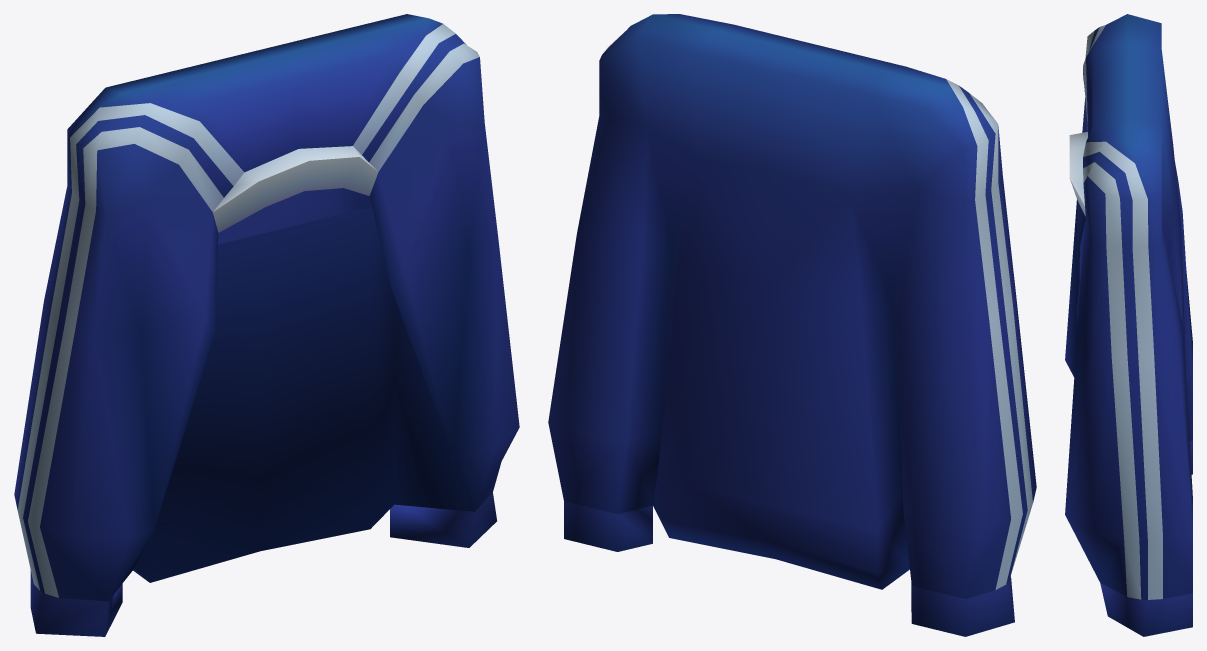
The model's file is CR_Clothes.FBX.
3 renders of one model, left to right at view 1: azimuth 30°, elevation 25°; view 2: azimuth 150°, elevation 25°; view 3: azimuth 270°, elevation 25°, orthographic. The views are drawn at different scales.
Visible parts, largest first — view 1: CR_Clothes; view 2: CR_Clothes; view 3: CR_Clothes.
Boxes of the visible parts, <box> form: CR_Clothes: <box>14,14,519,636</box>; CR_Clothes: <box>548,14,1036,636</box>; CR_Clothes: <box>1065,14,1192,636</box>.
Bounding box in the file's own units: 45.01 × 47.1 × 11.88.
